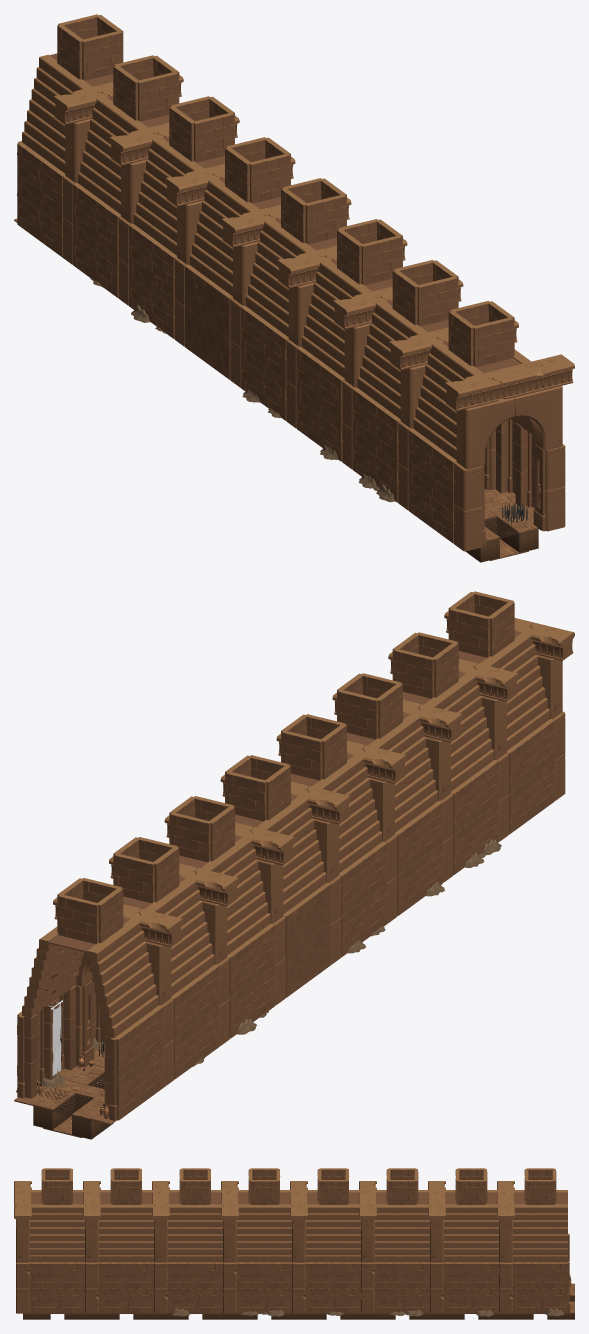
The picture shows the model from 3 angles, top to bottom: view 1: azimuth 30°, elevation 25°; view 2: azimuth 150°, elevation 25°; view 3: azimuth 270°, elevation 25°; orthographic projection. The views are drawn at different scales.
Visible parts, largest first — view 1: TFD_Wall_06A_LOD0_4, TFD_Wall_06A_LOD0_14, TFD_Wall_06A_LOD0_5, TFD_Wall_06A_LOD0_7, TFD_Beam_10A_LOD0_6, TFD_Wall_06A_LOD0_1, TFD_Wall_06A_LOD0_10, TFD_Wall_06A_LOD0_8, TFD_Column_01A_Module_18_LOD0_4, TFD_Column_01A_Module_18_LOD0_7, TFD_Wall_01A_LOD0_20, TFD_Wall_01A_LOD0_19 (+63 smaller); view 2: TFD_Wall_06A_LOD0_7, TFD_Wall_06A_LOD0_5, TFD_Wall_06A_LOD0_14, TFD_Wall_06A_LOD0_1, TFD_Wall_06A_LOD0_8, TFD_Wall_06A_LOD0_4, TFD_Wall_06A_LOD0_10, TFD_Wall_01A_LOD0_14, TFD_Corbelled_Roof_02A_LOD0_5, TFD_Wall_01A_LOD0_27, TFD_Wall_01A_LOD0_18, TFD_Wall_01A_LOD0_9 (+65 smaller); view 3: TFD_Wall_06A_LOD0_6, TFD_Wall_06A_LOD0_2, TFD_Wall_06A_LOD0_12, TFD_Wall_06A_LOD0_9, TFD_Wall_06A_LOD0, TFD_Wall_06A_LOD0_13, TFD_Wall_06A_LOD0_3, TFD_Wall_06A_LOD0_11, TFD_Corbelled_Roof_01A_LOD0_20, TFD_Corbelled_Roof_01A_LOD0_24, TFD_Corbelled_Roof_01A_LOD0_27, TFD_Corbelled_Roof_01A_LOD0_5 (+76 smaller).
Part boxes in pixels (x1=…): TFD_Wall_06A_LOD0_4: x1=296, y1=347, x2=343, y2=461; TFD_Wall_06A_LOD0_14: x1=240, y1=306, x2=287, y2=420; TFD_Wall_06A_LOD0_5: x1=408, y1=428, x2=455, y2=543; TFD_Wall_06A_LOD0_7: x1=17, y1=142, x2=64, y2=256; TFD_Beam_10A_LOD0_6: x1=444, y1=354, x2=574, y2=411; TFD_Wall_06A_LOD0_1: x1=73, y1=183, x2=120, y2=297; TFD_Wall_06A_LOD0_10: x1=352, y1=388, x2=399, y2=502; TFD_Wall_06A_LOD0_8: x1=129, y1=224, x2=176, y2=338; TFD_Column_01A_Module_18_LOD0_4: x1=456, y1=397, x2=514, y2=469; TFD_Column_01A_Module_18_LOD0_7: x1=514, y1=386, x2=562, y2=450; TFD_Wall_01A_LOD0_20: x1=472, y1=317, x2=513, y2=366; TFD_Wall_01A_LOD0_19: x1=81, y1=30, x2=122, y2=80; TFD_Wall_06A_LOD0_7: x1=115, y1=1006, x2=163, y2=1120; TFD_Wall_06A_LOD0_5: x1=507, y1=719, x2=554, y2=833; TFD_Wall_06A_LOD0_14: x1=340, y1=842, x2=387, y2=956; TFD_Wall_06A_LOD0_1: x1=172, y1=965, x2=219, y2=1079; TFD_Wall_06A_LOD0_8: x1=227, y1=924, x2=275, y2=1038; TFD_Wall_06A_LOD0_4: x1=395, y1=801, x2=443, y2=915; TFD_Wall_06A_LOD0_10: x1=451, y1=760, x2=498, y2=874; TFD_Wall_01A_LOD0_14: x1=58, y1=894, x2=99, y2=943; TFD_Corbelled_Roof_02A_LOD0_5: x1=87, y1=935, x2=126, y2=995; TFD_Wall_01A_LOD0_27: x1=449, y1=607, x2=490, y2=657; TFD_Wall_01A_LOD0_18: x1=226, y1=771, x2=267, y2=821; TFD_Wall_01A_LOD0_9: x1=114, y1=853, x2=155, y2=903; TFD_Wall_06A_LOD0_6: x1=98, y1=1262, x2=154, y2=1313; TFD_Wall_06A_LOD0_2: x1=29, y1=1262, x2=85, y2=1313; TFD_Wall_06A_LOD0_12: x1=305, y1=1262, x2=361, y2=1313; TFD_Wall_06A_LOD0_9: x1=443, y1=1262, x2=499, y2=1313; TFD_Wall_06A_LOD0: x1=512, y1=1262, x2=568, y2=1313; TFD_Wall_06A_LOD0_13: x1=167, y1=1262, x2=223, y2=1313; TFD_Wall_06A_LOD0_3: x1=374, y1=1262, x2=430, y2=1313; TFD_Wall_06A_LOD0_11: x1=236, y1=1262, x2=292, y2=1313; TFD_Corbelled_Roof_01A_LOD0_20: x1=540, y1=1204, x2=567, y2=1234; TFD_Corbelled_Roof_01A_LOD0_24: x1=126, y1=1204, x2=153, y2=1234; TFD_Corbelled_Roof_01A_LOD0_27: x1=264, y1=1204, x2=291, y2=1234; TFD_Corbelled_Roof_01A_LOD0_5: x1=57, y1=1204, x2=84, y2=1234.
Size of what is drawn, in the model's own units: 12.48 by 21.85 by 81.3.
2 materials, 1 textured.
